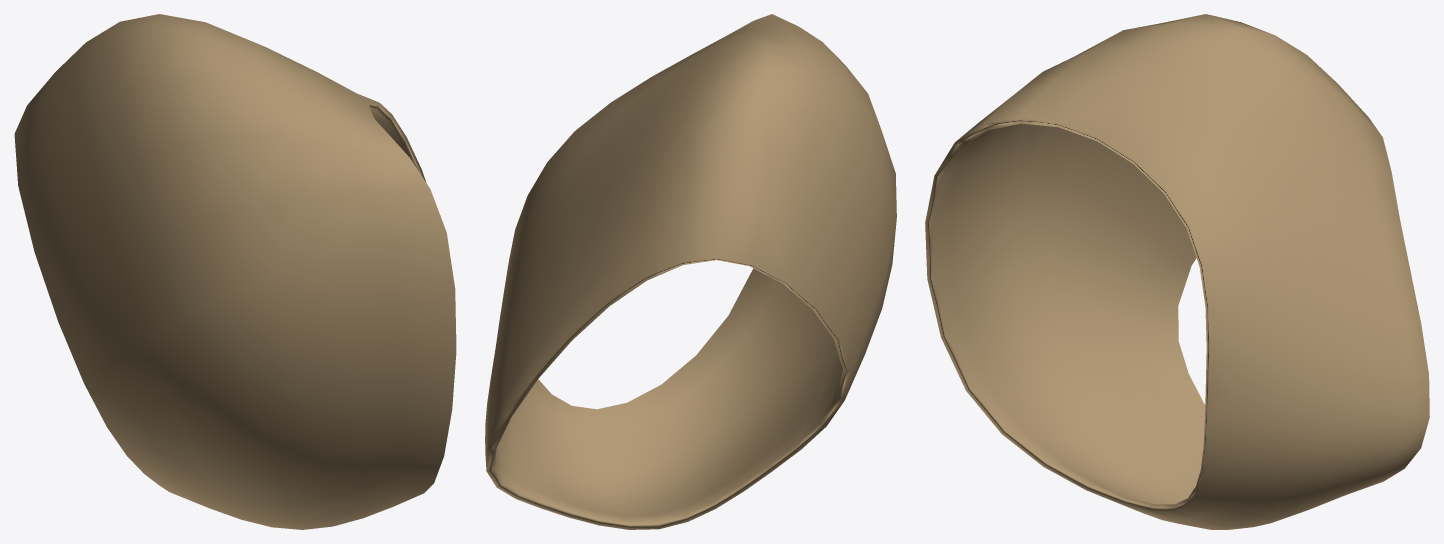
3 renders of one model, left to right at view 1: azimuth 30°, elevation 25°; view 2: azimuth 150°, elevation 25°; view 3: azimuth 270°, elevation 25°, orthographic. The views are drawn at different scales.
Visible parts, largest first — view 1: 左侧胸锁关节囊; view 2: 左侧胸锁关节囊; view 3: 左侧胸锁关节囊.
Boxes of the visible parts, box(x1,y1,x2,y2) form: 左侧胸锁关节囊: box(14, 14, 456, 529); 左侧胸锁关节囊: box(485, 14, 896, 529); 左侧胸锁关节囊: box(925, 14, 1429, 529).
Bounding box in the file's own units: 0.0348 × 0.0453 × 0.046.
